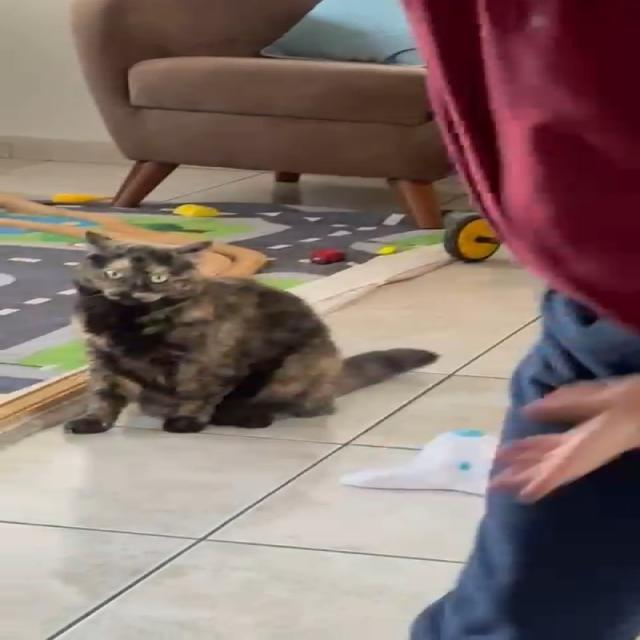authorized: (63, 230, 440, 434)
